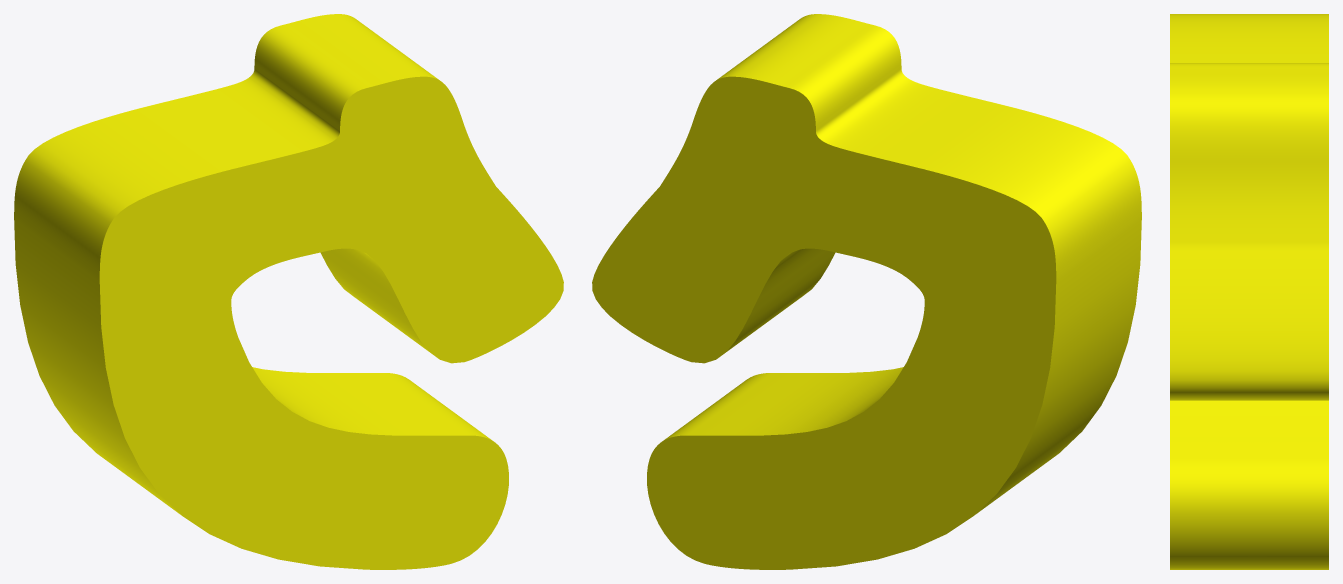
The model's file is ClearText_01.obj.
3 views of the same model, side by side, from view 1: azimuth 30°, elevation 25°; view 2: azimuth 150°, elevation 25°; view 3: azimuth 270°, elevation 25° (orthographic). The views are drawn at different scales.
Visible parts, largest first — view 1: ク; view 2: ク; view 3: ク.
Part boxes in pixels (x1=…): ク: x1=14, y1=14, x2=563, y2=569; ク: x1=592, y1=14, x2=1141, y2=569; ク: x1=1170, y1=14, x2=1328, y2=569.
Bounding box in the file's own units: 0.626 × 0.6404 × 0.2.
